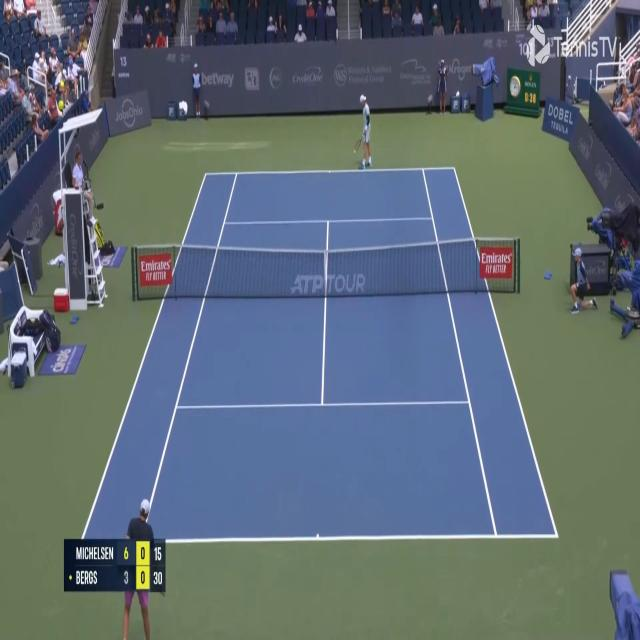tennis-player: (121, 499, 156, 638), (354, 92, 373, 170)
